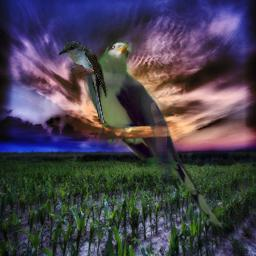Cuckoo: (84, 40, 231, 230), (58, 41, 108, 123)
